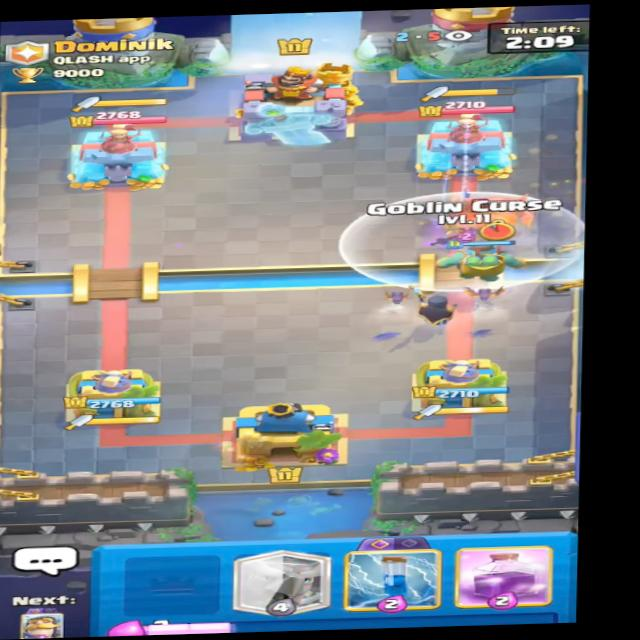Pekka: (449, 190, 545, 239)
